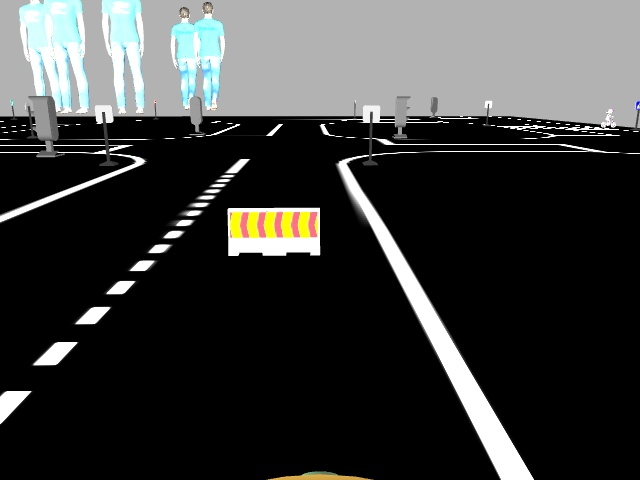ClosedRoadStand: (230, 209, 321, 254)
